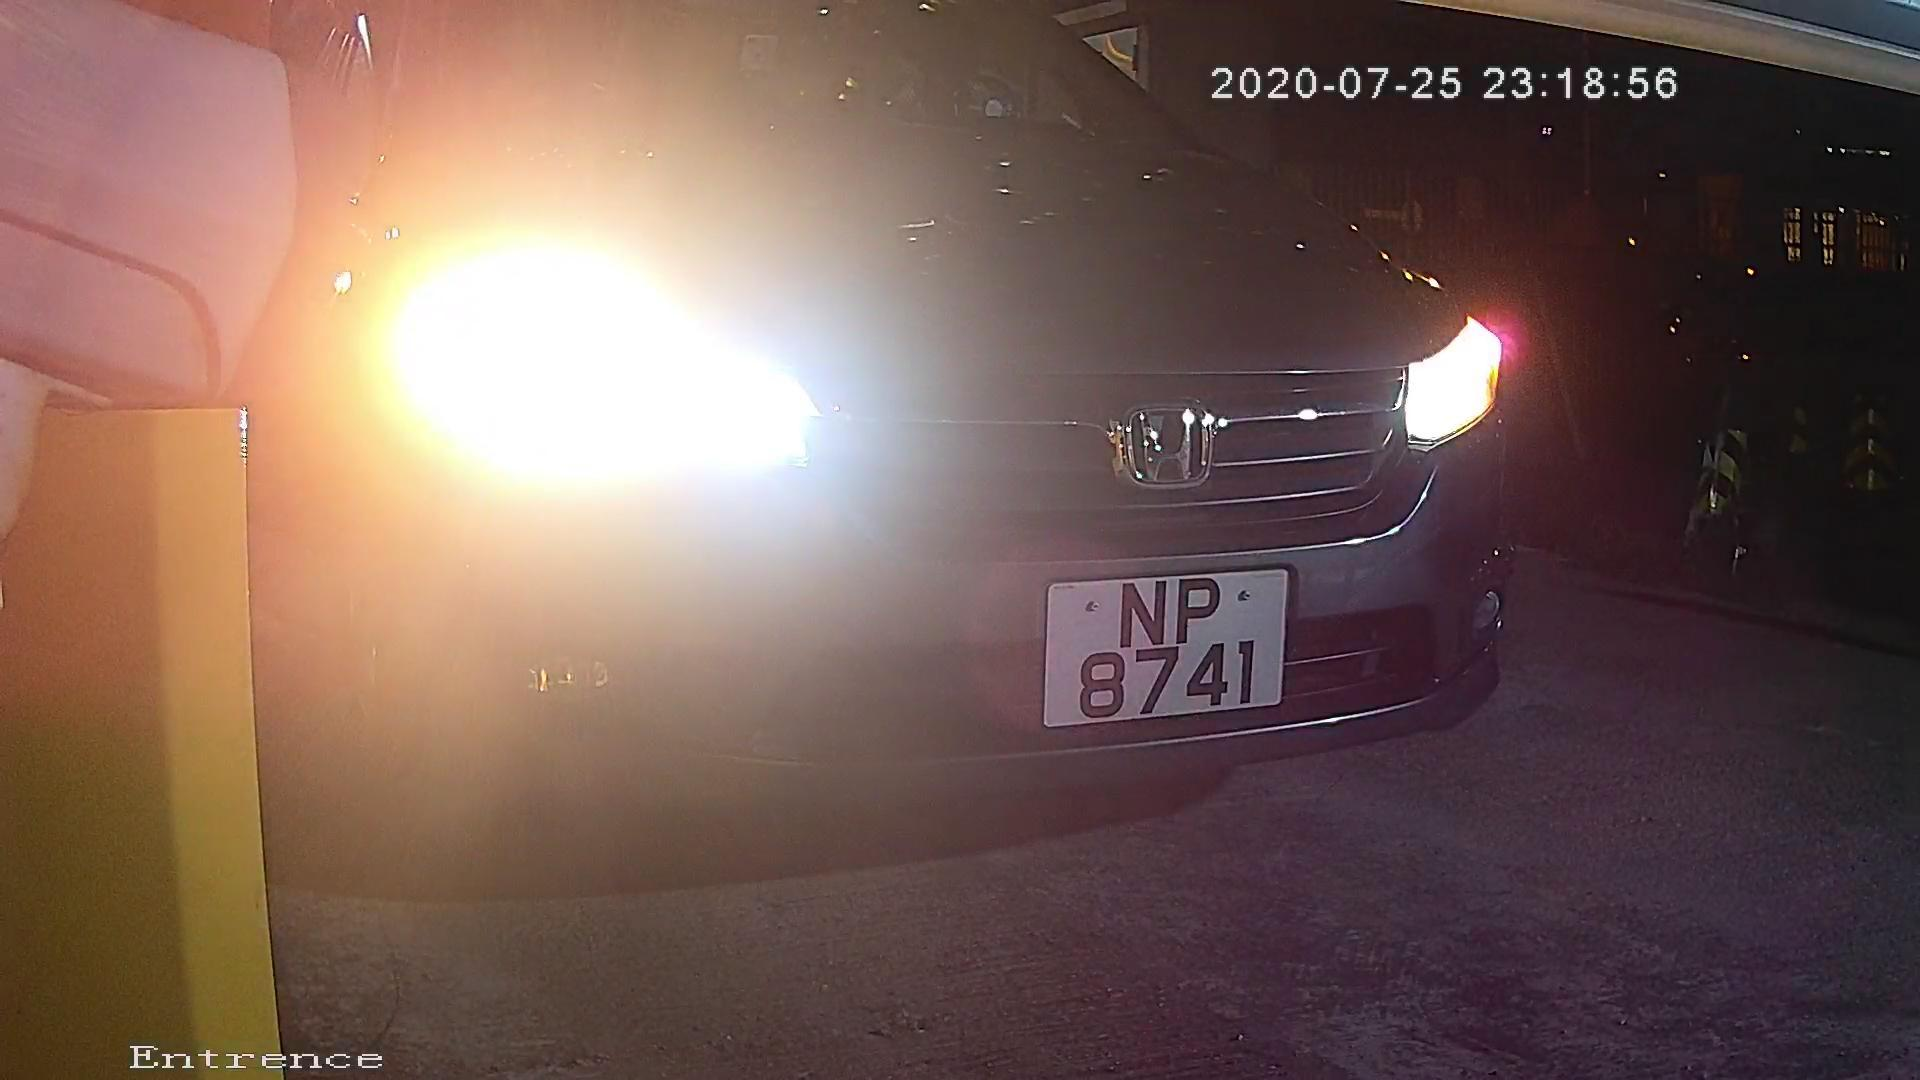privatecar: (369, 25, 1621, 855)
